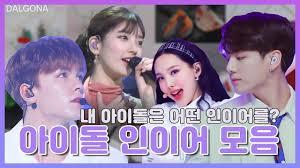earphone: (269, 55, 280, 67), (23, 87, 34, 97), (90, 40, 98, 49), (193, 66, 200, 74)
